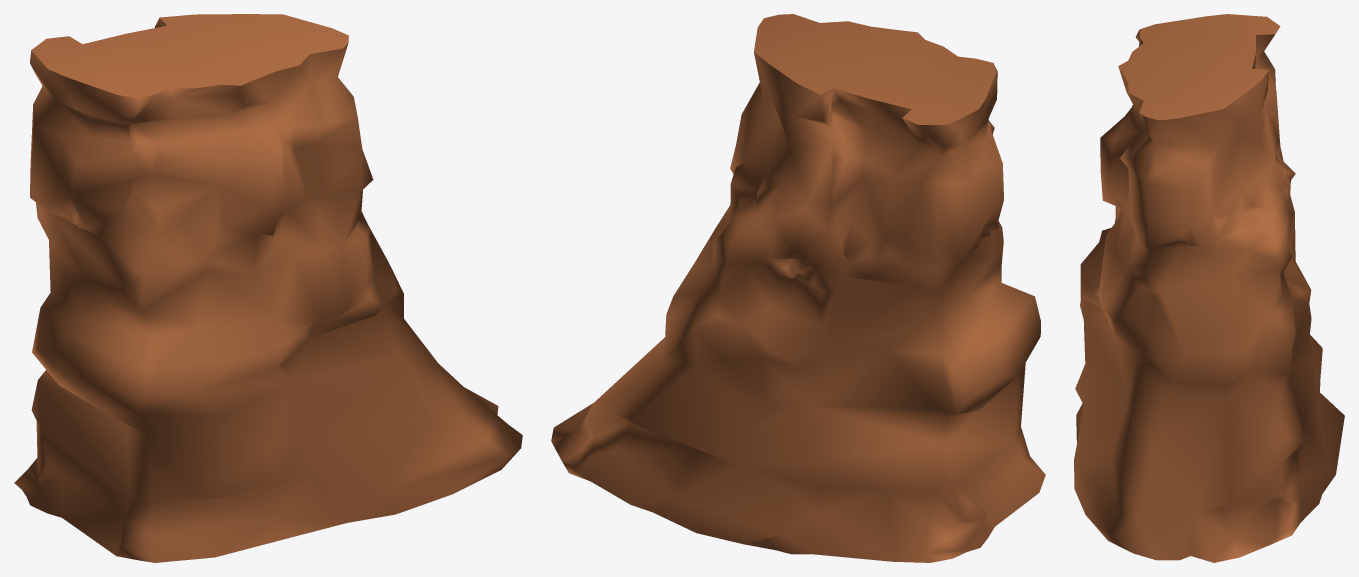
File: Cliff_Pirock03.FBX
3 renders of one model, left to right at view 1: azimuth 30°, elevation 25°; view 2: azimuth 150°, elevation 25°; view 3: azimuth 270°, elevation 25°, orthographic. The views are drawn at different scales.
Parts seen in each view (by area): view 1: Cliff_Pirock03; view 2: Cliff_Pirock03; view 3: Cliff_Pirock03.
Boxes of the visible parts, <box> form: Cliff_Pirock03: <box>14,14,522,562</box>; Cliff_Pirock03: <box>551,14,1045,562</box>; Cliff_Pirock03: <box>1074,14,1344,562</box>.
Bounding box in the file's own units: 1831 × 1710 × 1133.
